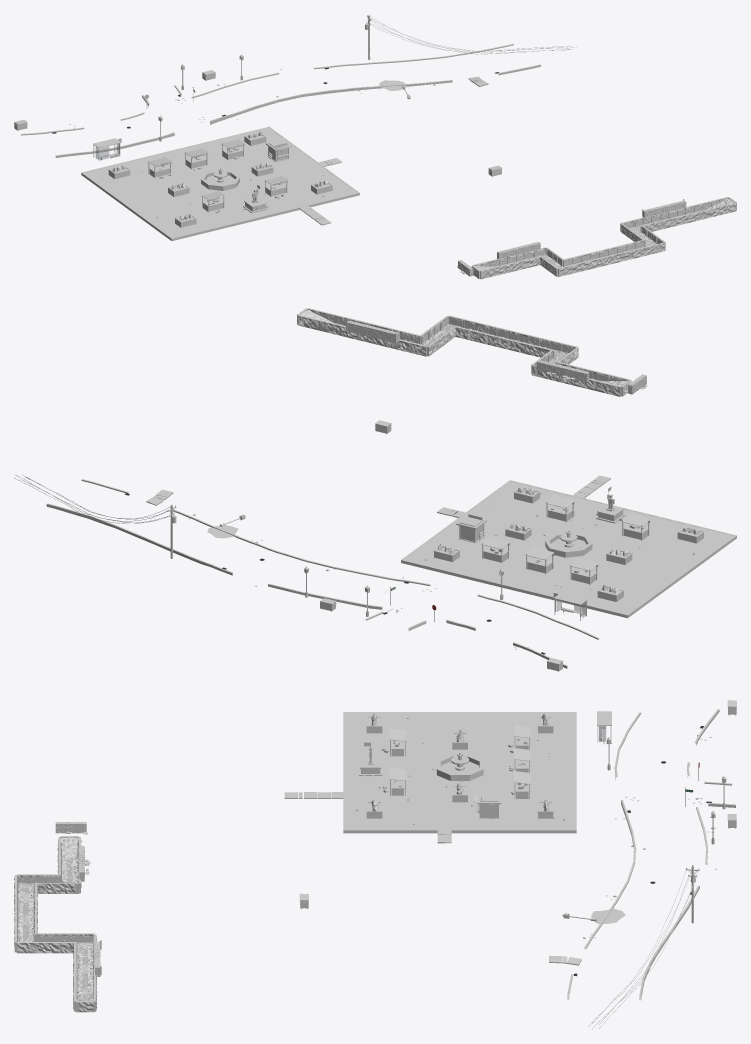
Rendered from outdoor_11.glb.
3 renders of one model, top to bottom at view 1: azimuth 30°, elevation 25°; view 2: azimuth 150°, elevation 25°; view 3: azimuth 270°, elevation 25°, orthographic. The views are drawn at different scales.
Visible parts, largest first — view 1: gas_station_town; view 2: gas_station_town; view 3: gas_station_town.
Part boxes in pixels (box(x1,y1,x2,y2)): gas_station_town: box(14, 14, 736, 279); gas_station_town: box(14, 308, 736, 671); gas_station_town: box(14, 700, 736, 1029).
Bounding box in the file's own units: 97.12 × 9.49 × 92.94.
3 materials, 2 textured.
